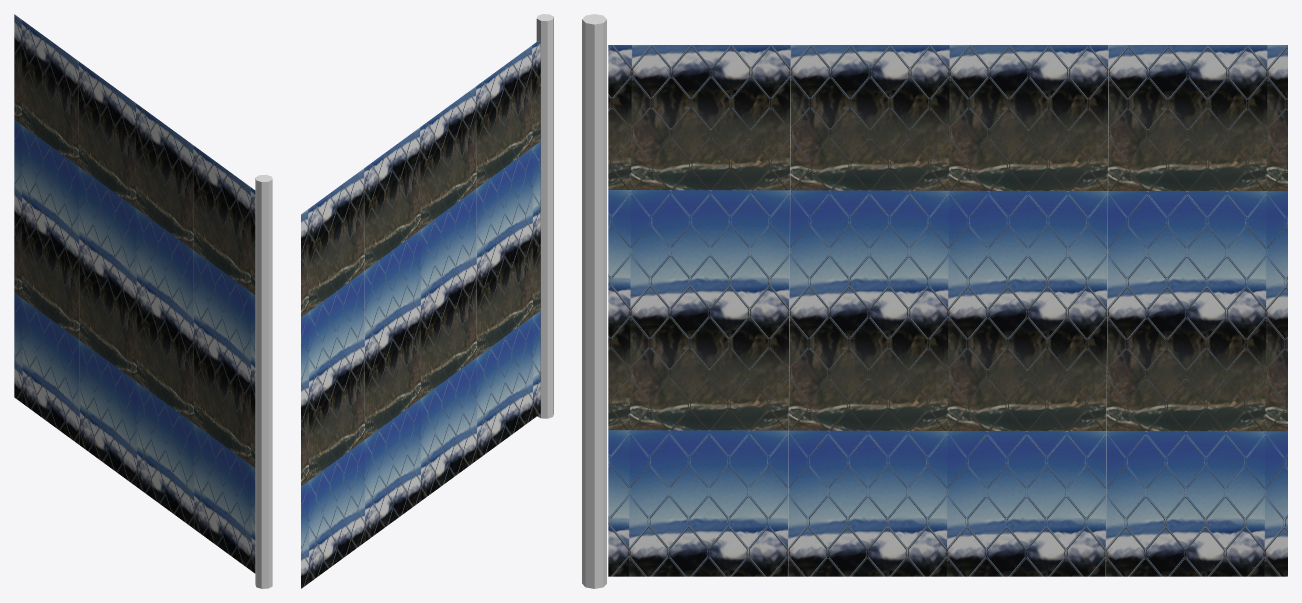
The model's file is chainlink_fence.fbx.
The picture shows the model from 3 angles, left to right: view 1: azimuth 30°, elevation 25°; view 2: azimuth 150°, elevation 25°; view 3: azimuth 270°, elevation 25°; orthographic projection. The views are drawn at different scales.
Visible parts, largest first — view 1: chainlink_fense; view 2: chainlink_fense; view 3: chainlink_fense.
Part boxes in pixels (x1,y1,x2,y2): chainlink_fense: [14, 14, 272, 588]; chainlink_fense: [301, 14, 553, 588]; chainlink_fense: [582, 14, 1287, 588].
Bounding box in the file's own units: 28.21 × 700 × 794.
2 materials, 1 textured.
